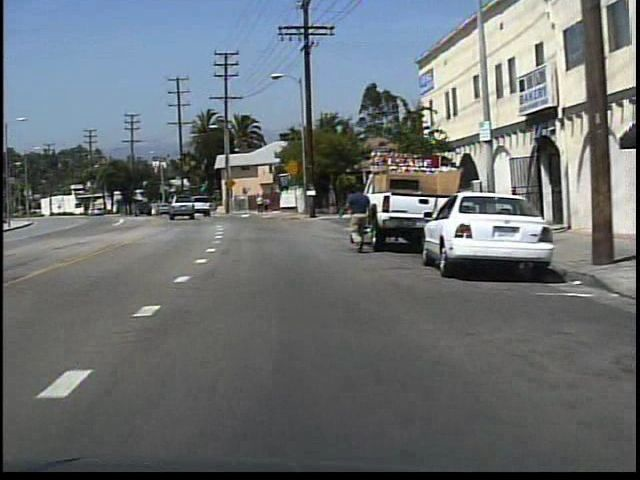person: (339, 183, 372, 255), (254, 193, 264, 215), (262, 197, 272, 215)
